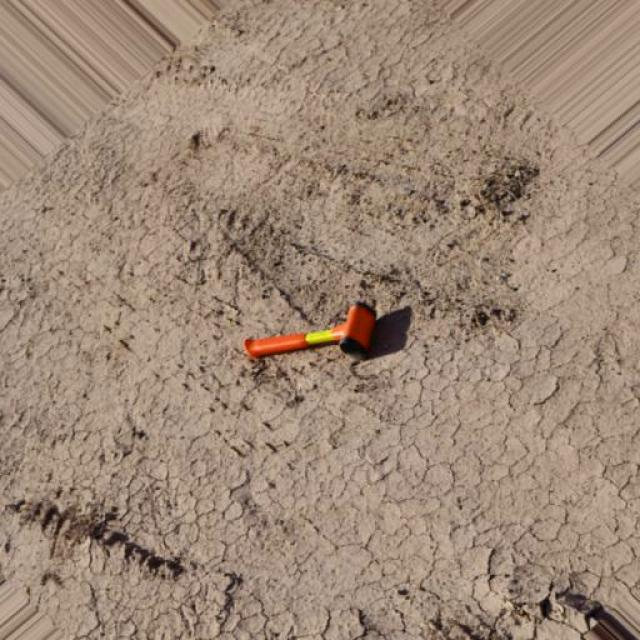mallet: (242, 300, 376, 360)
